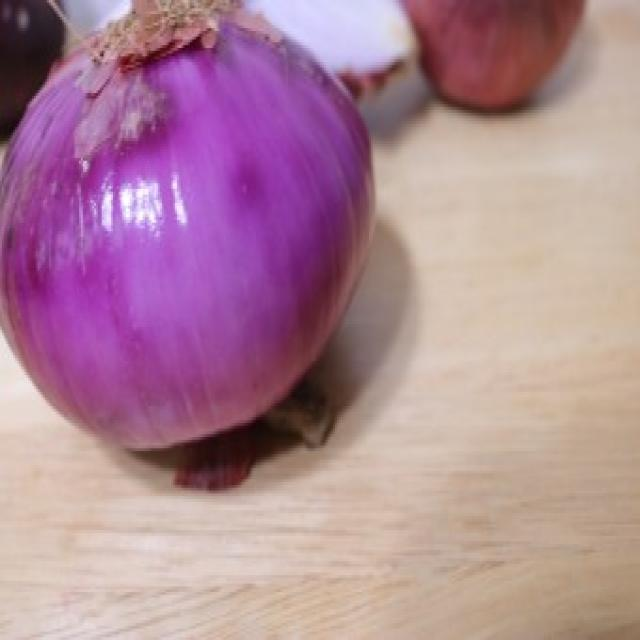onion: (14, 6, 393, 488)
